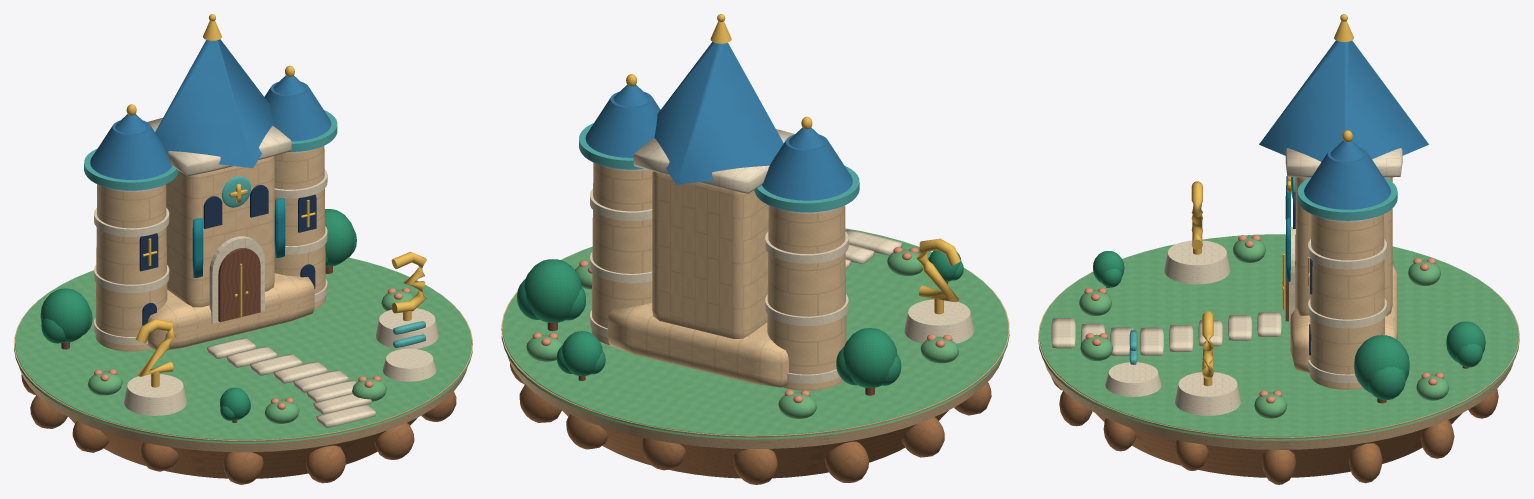
Rendered from math-world.glb.
3 views of the same model, side by side, from view 1: azimuth 30°, elevation 25°; view 2: azimuth 150°, elevation 25°; view 3: azimuth 270°, elevation 25° (orthographic). The views are drawn at different scales.
Parts seen in each view (by area): view 1: math-world_Living mint grass, math-world_Honey limestone masonry, math-world_Pale paving and trim, math-world_Glazed blue castle roofs, math-world_Warm stratified island rock, math-world_Deep jade leaves, math-world_Gold painted math sculptures, math-world_Turquoise glazed roof band, math-world_Walnut arched door, math-world_Deep window recess, math-world_Teal woven banner, math-world_Coral learning garden; view 2: math-world_Honey limestone masonry, math-world_Living mint grass, math-world_Glazed blue castle roofs, math-world_Warm stratified island rock, math-world_Pale paving and trim, math-world_Deep jade leaves, math-world_Gold painted math sculptures, math-world_Turquoise glazed roof band, math-world_Coral learning garden; view 3: math-world_Living mint grass, math-world_Honey limestone masonry, math-world_Glazed blue castle roofs, math-world_Pale paving and trim, math-world_Warm stratified island rock, math-world_Deep jade leaves, math-world_Gold painted math sculptures, math-world_Turquoise glazed roof band, math-world_Coral learning garden, math-world_Teal woven banner.
Part boxes in pixels (x1,y1,x2,y2): math-world_Living mint grass: [14, 257, 472, 443]; math-world_Honey limestone masonry: [14, 146, 472, 452]; math-world_Pale paving and trim: [94, 118, 438, 427]; math-world_Glazed blue castle roofs: [87, 39, 333, 190]; math-world_Warm stratified island rock: [21, 374, 456, 484]; math-world_Deep jade leaves: [40, 209, 356, 420]; math-world_Gold painted math sculptures: [126, 14, 426, 387]; math-world_Turquoise glazed roof band: [84, 110, 425, 347]; math-world_Walnut arched door: [61, 248, 332, 422]; math-world_Deep window recess: [139, 185, 316, 325]; math-world_Teal woven banner: [192, 198, 285, 277]; math-world_Coral learning garden: [94, 287, 410, 409]; math-world_Honey limestone masonry: [501, 162, 1009, 448]; math-world_Living mint grass: [501, 228, 1009, 439]; math-world_Glazed blue castle roofs: [581, 42, 855, 212]; math-world_Warm stratified island rock: [510, 363, 991, 484]; math-world_Pale paving and trim: [590, 129, 973, 383]; math-world_Deep jade leaves: [517, 250, 963, 387]; math-world_Gold painted math sculptures: [626, 14, 960, 314]; math-world_Turquoise glazed roof band: [579, 123, 859, 211]; math-world_Coral learning garden: [532, 247, 952, 403]; math-world_Living mint grass: [1038, 234, 1519, 440]; math-world_Honey limestone masonry: [1038, 177, 1519, 449]; math-world_Glazed blue castle roofs: [1259, 40, 1428, 220]; math-world_Pale paving and trim: [1051, 148, 1402, 415]; math-world_Warm stratified island rock: [1051, 377, 1498, 484]; math-world_Deep jade leaves: [1093, 251, 1485, 400]; math-world_Gold painted math sculptures: [1191, 14, 1353, 386]; math-world_Turquoise glazed roof band: [1129, 177, 1397, 364]; math-world_Coral learning garden: [1084, 235, 1443, 403]; math-world_Teal woven banner: [1285, 176, 1290, 281].
Size of the model in its own units: 4.07 by 3.62 by 4.07.
Materials: 12 (12 with a texture image).
